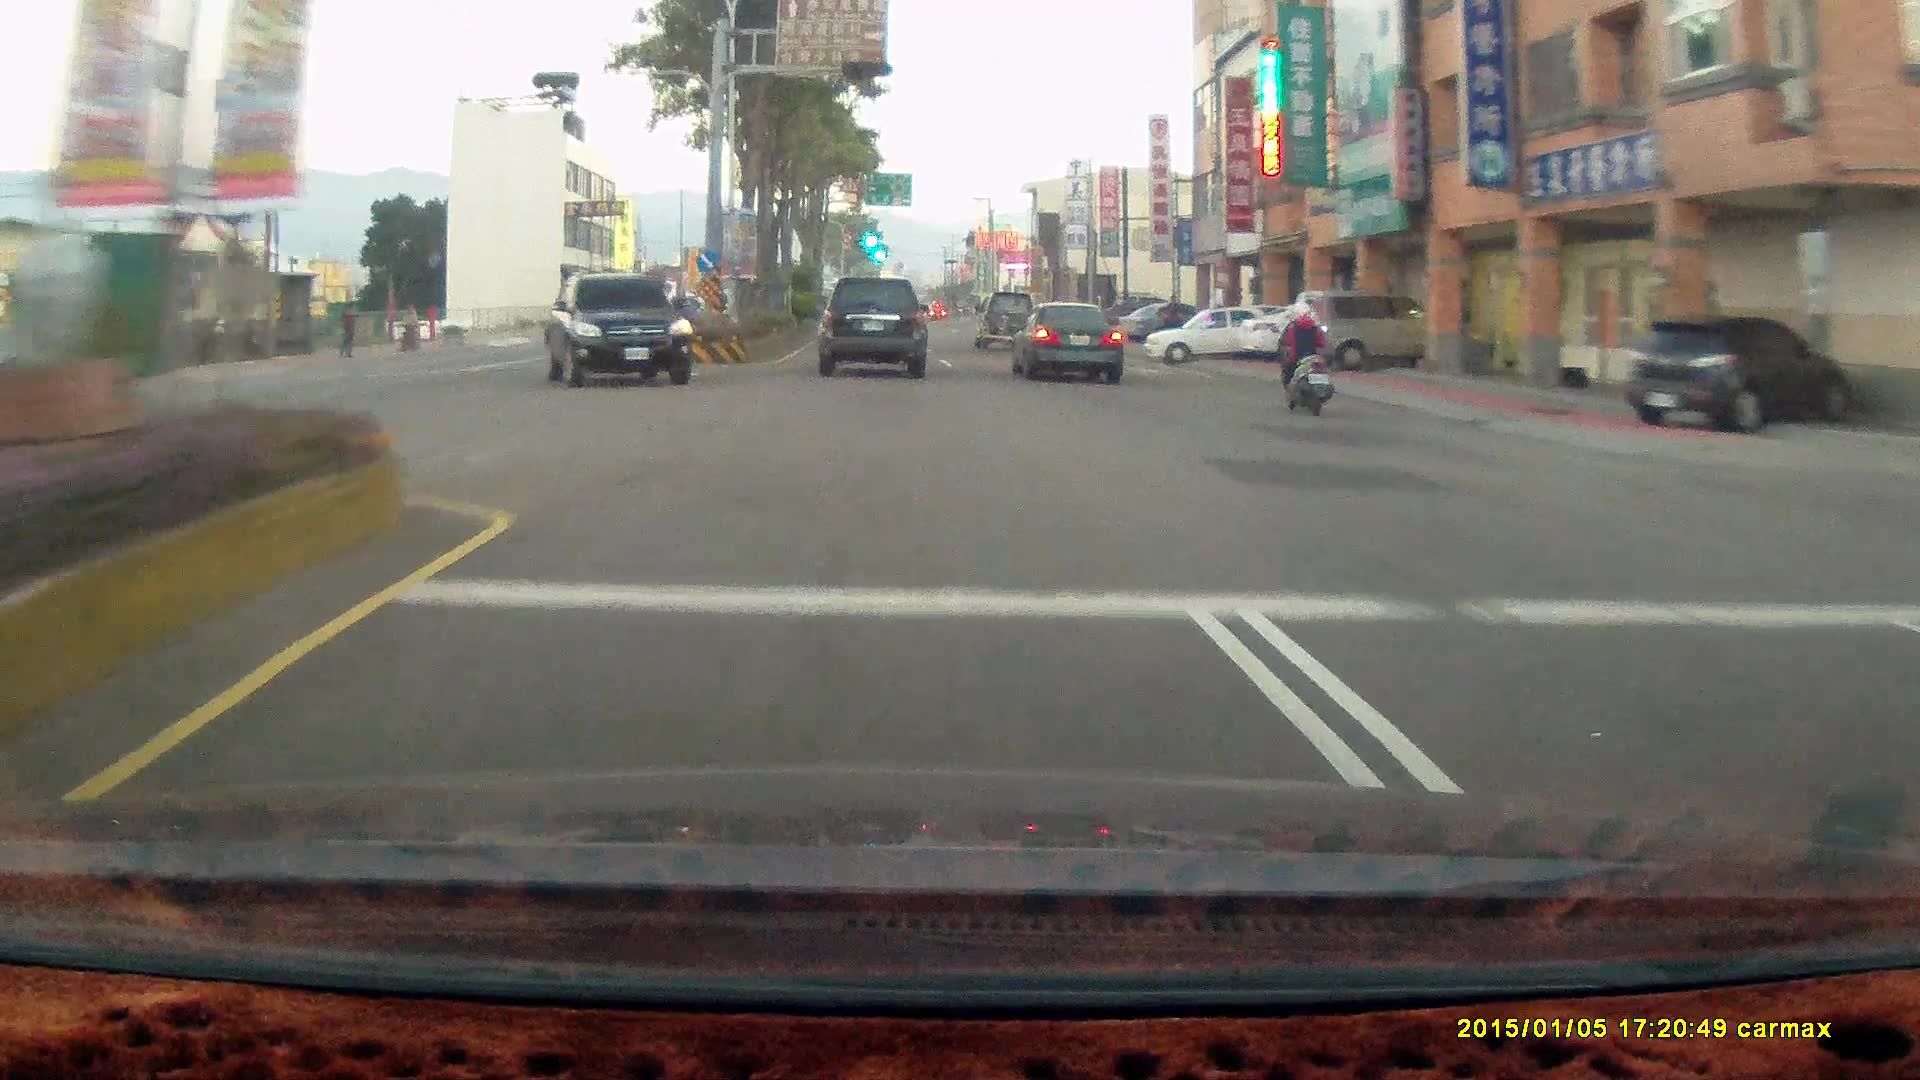pedestrian: (335, 307, 357, 359)
rider: (1264, 289, 1345, 421), (1272, 298, 1334, 414)
vehicle: (1627, 319, 1859, 433), (1626, 320, 1849, 428), (542, 276, 694, 391), (542, 271, 691, 386), (1284, 290, 1463, 369), (1280, 295, 1434, 374), (823, 275, 933, 378), (817, 276, 927, 378), (1238, 297, 1395, 365), (1008, 302, 1131, 385), (1007, 298, 1121, 381), (1150, 304, 1290, 370), (1142, 305, 1283, 364), (972, 289, 1040, 348), (1120, 301, 1209, 340)
